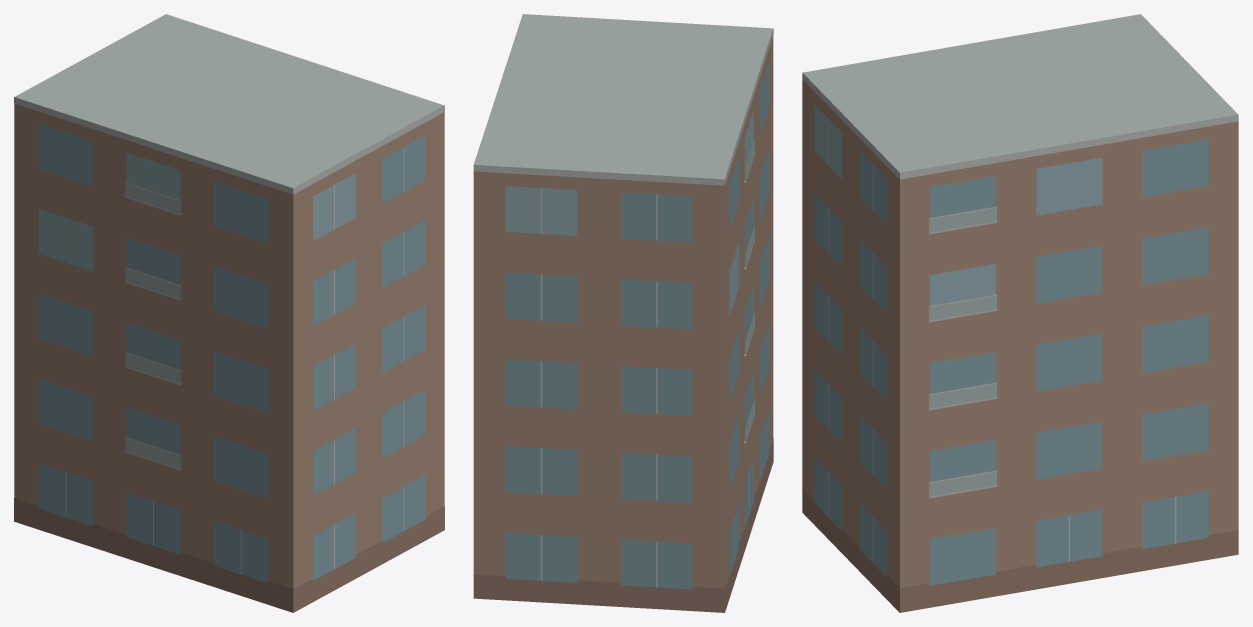
Rendered from survey-upis-32568939.glb.
3 renders of one model, left to right at view 1: azimuth 30°, elevation 25°; view 2: azimuth 150°, elevation 25°; view 3: azimuth 270°, elevation 25°, orthographic. The views are drawn at different scales.
Parts seen in each view (by area): view 1: survey-upis-32568939.tmp; view 2: survey-upis-32568939.tmp; view 3: survey-upis-32568939.tmp.
Boxes of the visible parts, x1,y1,x2,y2 form: survey-upis-32568939.tmp: (14,14,444,612); survey-upis-32568939.tmp: (473,14,773,612); survey-upis-32568939.tmp: (802,14,1238,612).
Size of the model in its own units: 12.57 by 16.21 by 14.57.
